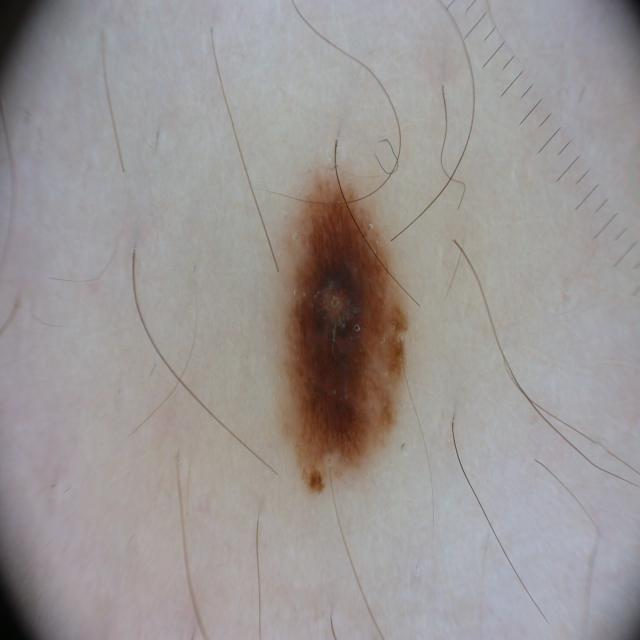Benign: (276, 161, 414, 512)
